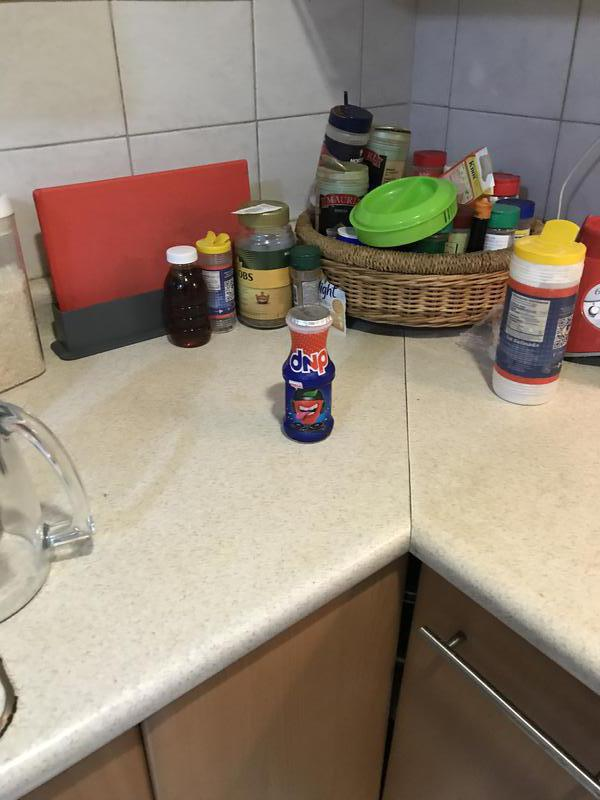danup: (282, 305, 339, 443)
